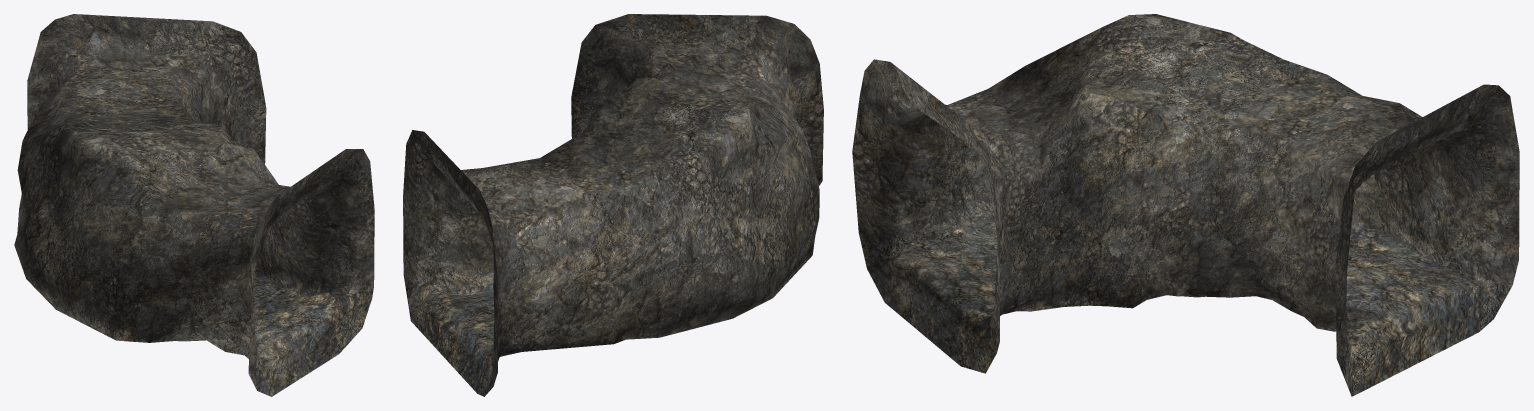
File: Cave26.fbx
The picture shows the model from 3 angles, left to right: view 1: azimuth 30°, elevation 25°; view 2: azimuth 150°, elevation 25°; view 3: azimuth 270°, elevation 25°; orthographic projection. The views are drawn at different scales.
Parts seen in each view (by area): view 1: Cave26; view 2: Cave26; view 3: Cave26.
Boxes of the visible parts, left/top/right/bottom form: Cave26: left=14, top=14, right=374, bottom=396; Cave26: left=403, top=14, right=823, bottom=396; Cave26: left=852, top=14, right=1519, bottom=396.
Bounding box in the file's own units: 69.43 × 45.84 × 111.
